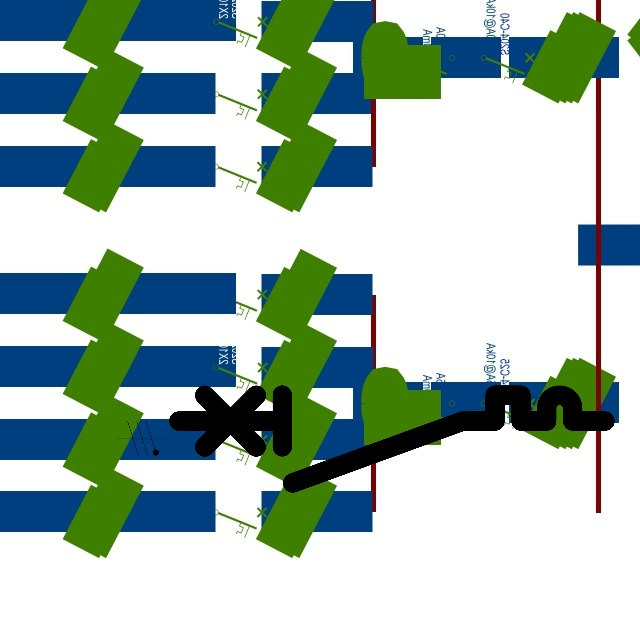interruptor_termomagnetico: (167, 384, 615, 493)
